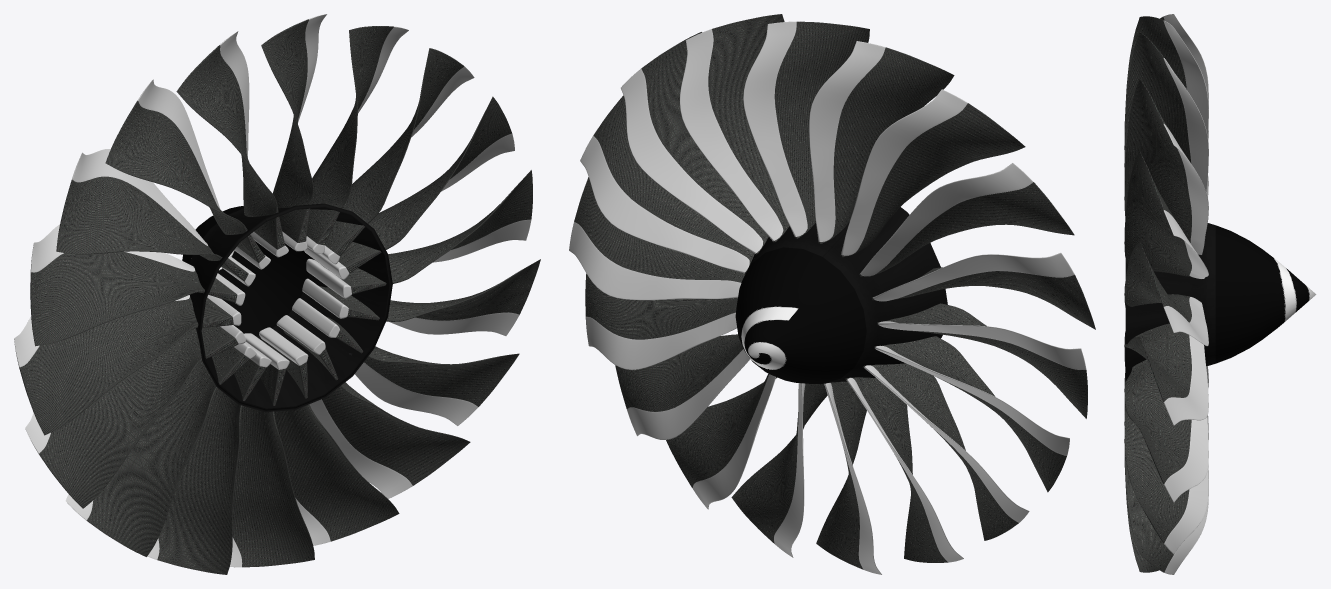
Rendered from FAN_DEF2.fbx.
3 views of the same model, side by side, from view 1: azimuth 30°, elevation 25°; view 2: azimuth 150°, elevation 25°; view 3: azimuth 270°, elevation 25° (orthographic). The views are drawn at different scales.
Visible parts, largest first — view 1: polySurface1091, pCube15, pCube16, pCube14, pCube13, pCube12, pCube17, pCube11, pCube10, pCube9, pCube18, pCube8 (+7 smaller); view 2: polySurface1091, pCube19, pCube1, pCube3, pCube18, pCube4, pCube5, pCube6, pCube17, pCube7, pCube8, pCube9 (+7 smaller); view 3: polySurface1091, pCube3, pCube7, pCube4, pCube1, pCube6, pCube8, pCube5, pCube19, pCube9, pCube18, pCube10.
Part boxes in pixels (x1,y1,x2,y2): polySurface1091: (182, 203, 392, 412); pCube15: (14, 295, 241, 435); pCube16: (30, 224, 245, 346); pCube14: (25, 325, 245, 508); pCube13: (65, 343, 256, 556); pCube12: (147, 341, 271, 574); pCube17: (56, 149, 255, 286); pCube11: (230, 333, 314, 567); pCube10: (259, 327, 399, 545); pCube9: (276, 315, 470, 498); pCube18: (105, 79, 270, 269); pCube8: (292, 298, 519, 425); polySurface1091: (735, 207, 947, 383); pCube19: (809, 41, 954, 243); pCube1: (743, 21, 869, 238); pCube3: (679, 14, 789, 242); pCube18: (840, 89, 1025, 257); pCube4: (620, 32, 768, 254); pCube5: (580, 95, 754, 273); pCube6: (569, 177, 745, 300); pCube17: (859, 163, 1074, 276); pCube7: (585, 273, 737, 369); pCube8: (615, 334, 749, 439); pCube9: (666, 373, 777, 509); polySurface1091: (1125, 223, 1316, 381); pCube3: (1124, 79, 1208, 255); pCube7: (1124, 359, 1208, 502); pCube4: (1124, 151, 1208, 279); pCube1: (1124, 32, 1208, 191); pCube6: (1124, 323, 1208, 425); pCube8: (1124, 408, 1208, 554); pCube5: (1124, 241, 1208, 346); pCube19: (1124, 16, 1208, 149); pCube9: (1124, 439, 1208, 574); pCube18: (1160, 14, 1208, 101); pCube10: (1124, 465, 1208, 572).
Size of the model in its own units: 180 by 179 by 61.61.
Materials: 4 (3 with a texture image).
